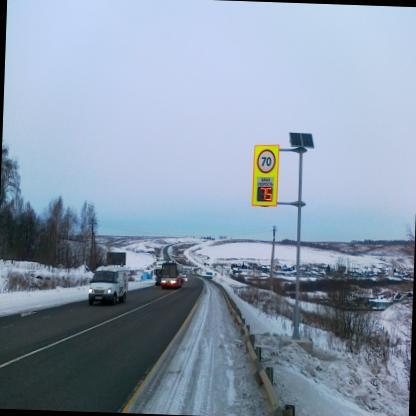road_sign: (253, 145, 278, 175)
